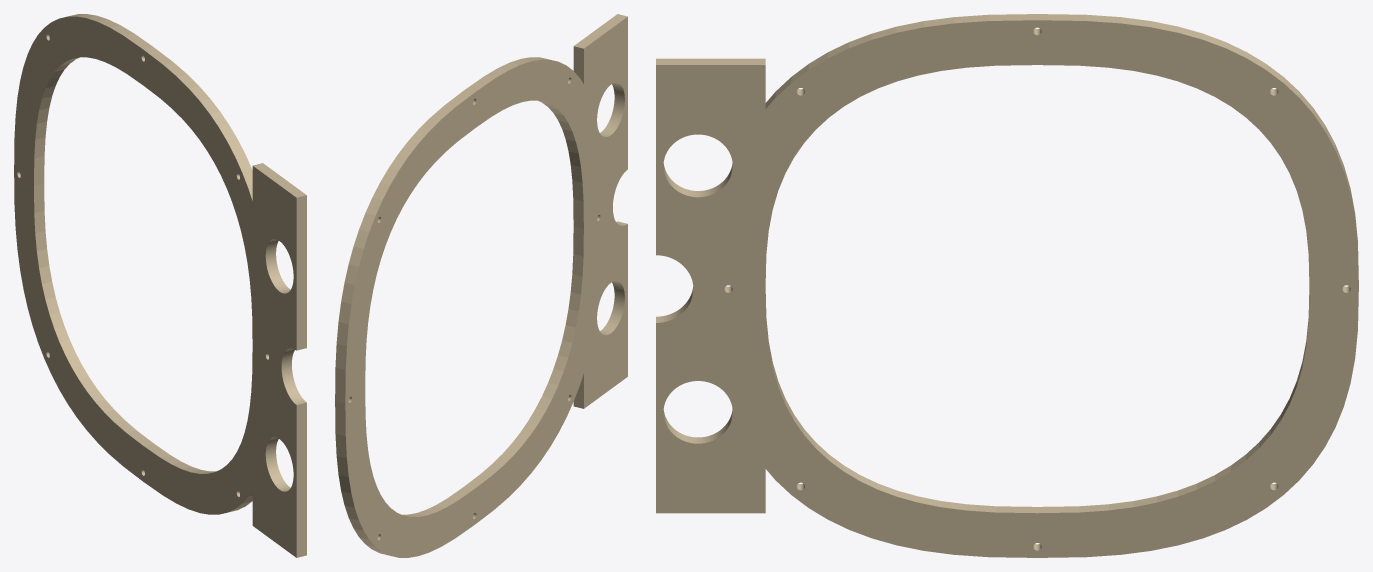
3 views of the same model, side by side, from view 1: azimuth 30°, elevation 25°; view 2: azimuth 150°, elevation 25°; view 3: azimuth 270°, elevation 25° (orthographic). The views are drawn at different scales.
Parts seen in each view (by area): view 1: geometry_0; view 2: geometry_0; view 3: geometry_0.
Boxes of the visible parts, x1=… form: geometry_0: x1=14, y1=14, x2=306, y2=557; geometry_0: x1=335, y1=14, x2=627, y2=557; geometry_0: x1=656, y1=14, x2=1358, y2=557.
Size of the model in its own units: 6 by 240 by 284.
